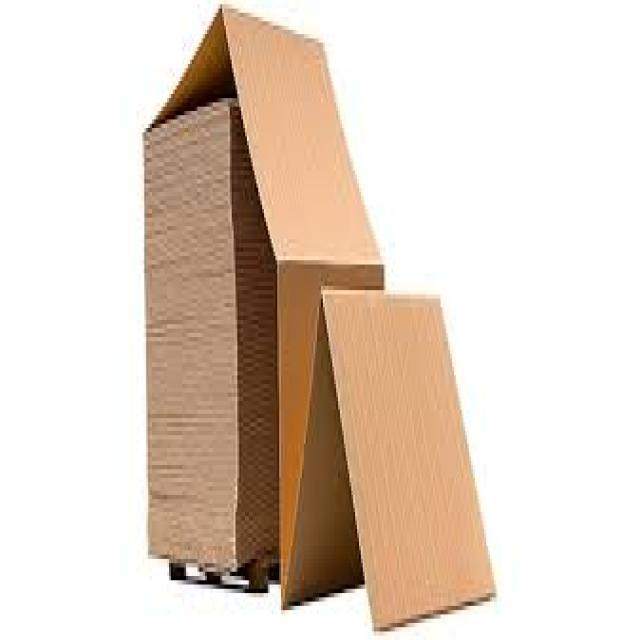Cardboard: (144, 8, 497, 632)
